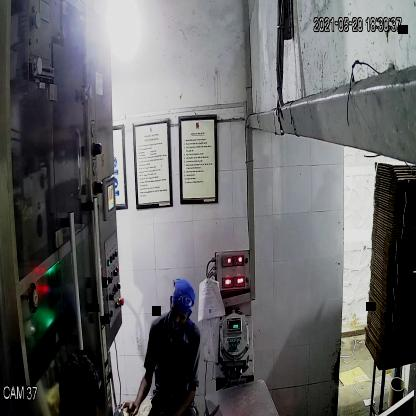no_goggles: (168, 302, 188, 324)
